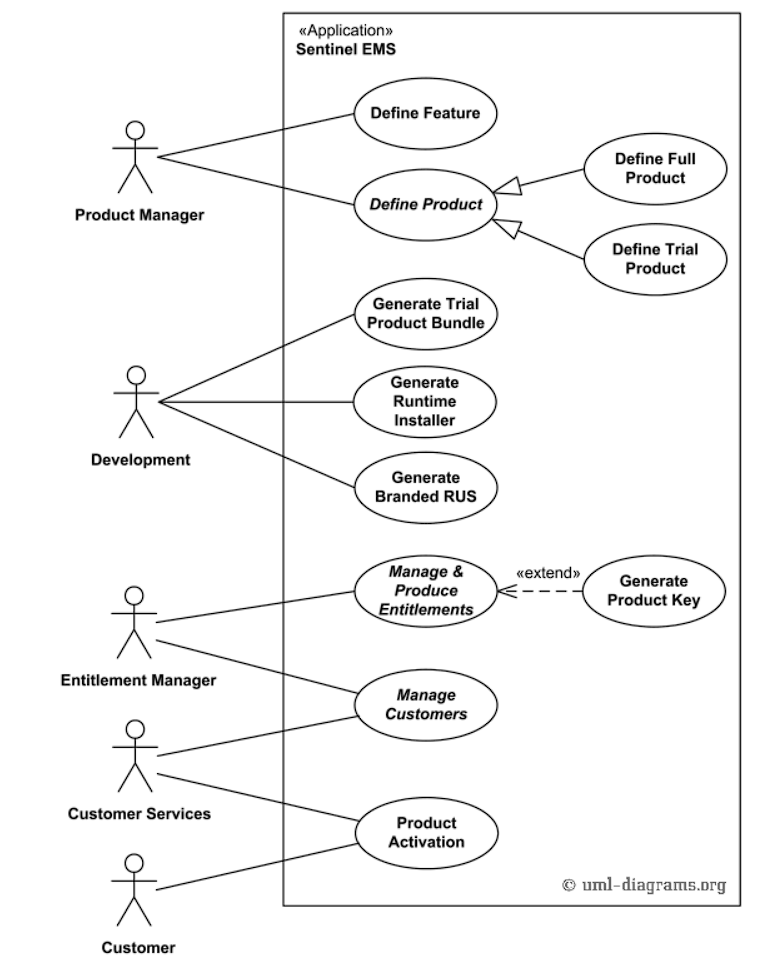actor: (110, 359, 164, 444), (109, 115, 164, 198), (107, 847, 158, 932), (108, 581, 158, 667), (109, 713, 157, 798)
association: (162, 311, 351, 401), (172, 403, 356, 494), (154, 636, 354, 697), (161, 772, 356, 827), (158, 843, 351, 891), (157, 715, 349, 762), (164, 158, 349, 206), (160, 112, 349, 158), (155, 591, 354, 628), (490, 217, 586, 262), (166, 389, 344, 408), (493, 164, 585, 199), (498, 580, 584, 602)
text: (375, 563, 480, 621), (557, 871, 733, 901), (371, 464, 482, 510), (379, 680, 481, 728), (65, 800, 217, 831), (292, 19, 404, 61), (602, 569, 711, 612), (55, 668, 221, 696), (364, 294, 484, 332), (386, 373, 461, 430), (608, 147, 703, 187), (607, 238, 704, 277), (71, 201, 210, 228), (383, 812, 473, 853), (79, 444, 195, 474), (367, 97, 488, 125), (369, 190, 483, 218), (96, 937, 195, 959), (512, 560, 583, 585)
use_case: (578, 550, 727, 632), (352, 447, 502, 528), (352, 551, 501, 631), (581, 220, 731, 299), (352, 665, 501, 744), (348, 74, 498, 152), (351, 166, 499, 245), (353, 793, 500, 872), (581, 131, 731, 208), (350, 362, 498, 440), (354, 274, 499, 353)
